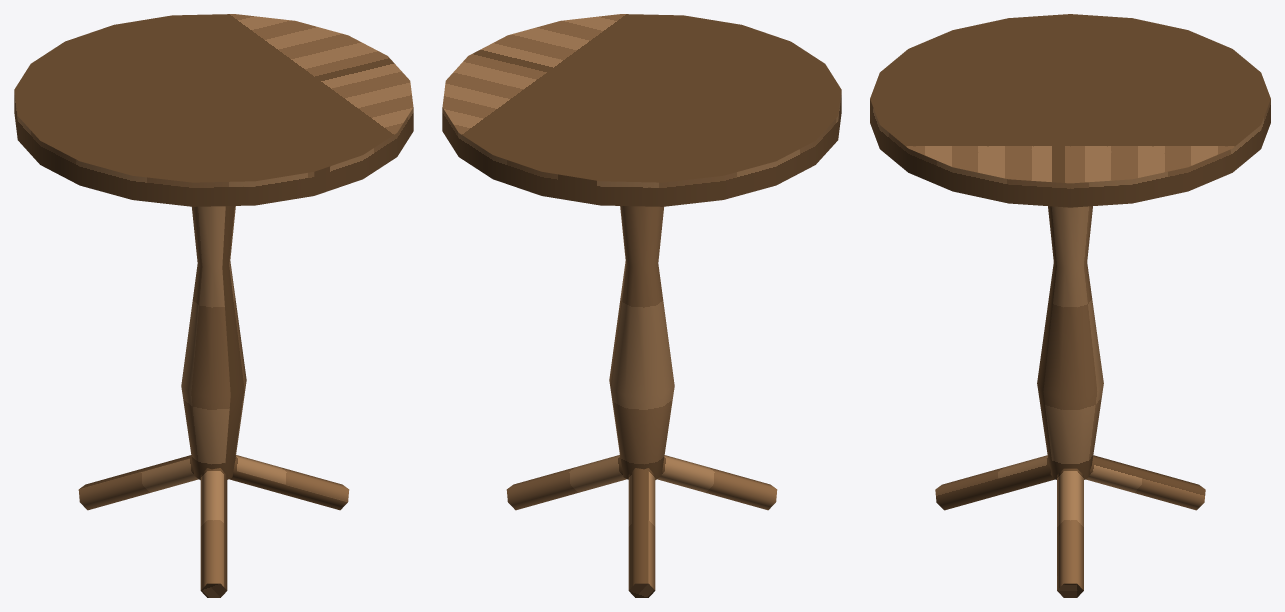
The model's file is sideTable.glb.
3 views of the same model, side by side, from view 1: azimuth 30°, elevation 25°; view 2: azimuth 150°, elevation 25°; view 3: azimuth 270°, elevation 25° (orthographic).
Visible parts, largest first — view 1: dyn_wood_variant; view 2: dyn_wood_variant; view 3: dyn_wood_variant.
Boxes of the visible parts, left/top/right/bottom form: dyn_wood_variant: left=14, top=14, right=413, bottom=597; dyn_wood_variant: left=442, top=14, right=841, bottom=597; dyn_wood_variant: left=870, top=14, right=1270, bottom=597.
Size of the model in its own units: 0.6002 by 0.7256 by 0.6002.
1 material, 1 textured.
